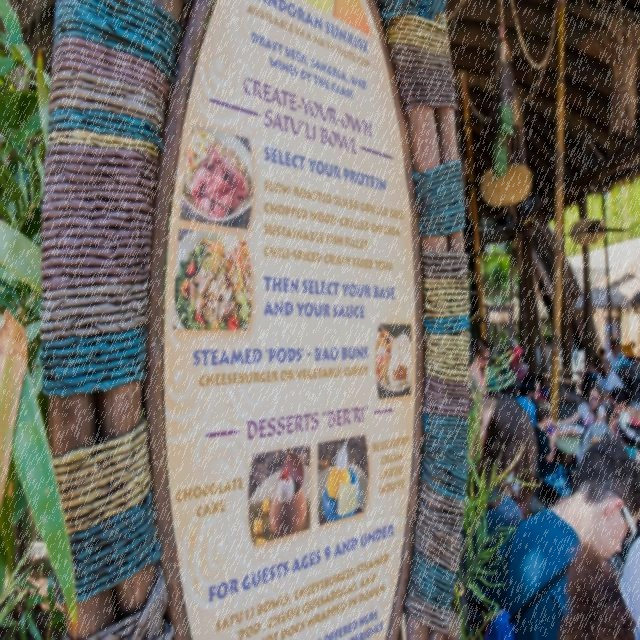pessoa: (484, 430, 640, 640), (456, 396, 541, 640), (552, 537, 640, 639), (533, 398, 575, 499), (548, 384, 608, 429), (468, 336, 491, 414), (608, 386, 640, 440), (512, 372, 542, 428), (470, 393, 493, 454), (612, 417, 640, 462), (597, 358, 625, 398), (605, 337, 635, 372), (586, 345, 604, 385), (512, 352, 530, 384), (508, 336, 524, 370), (622, 338, 638, 358)
